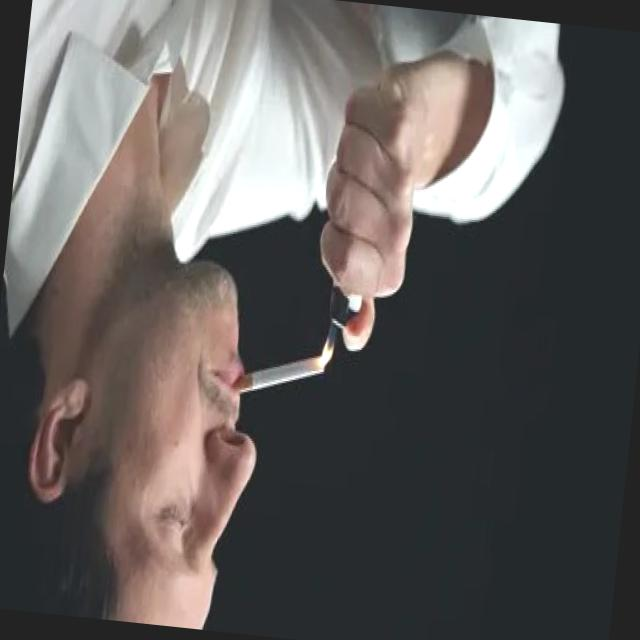cigarette: (230, 345, 327, 406)
